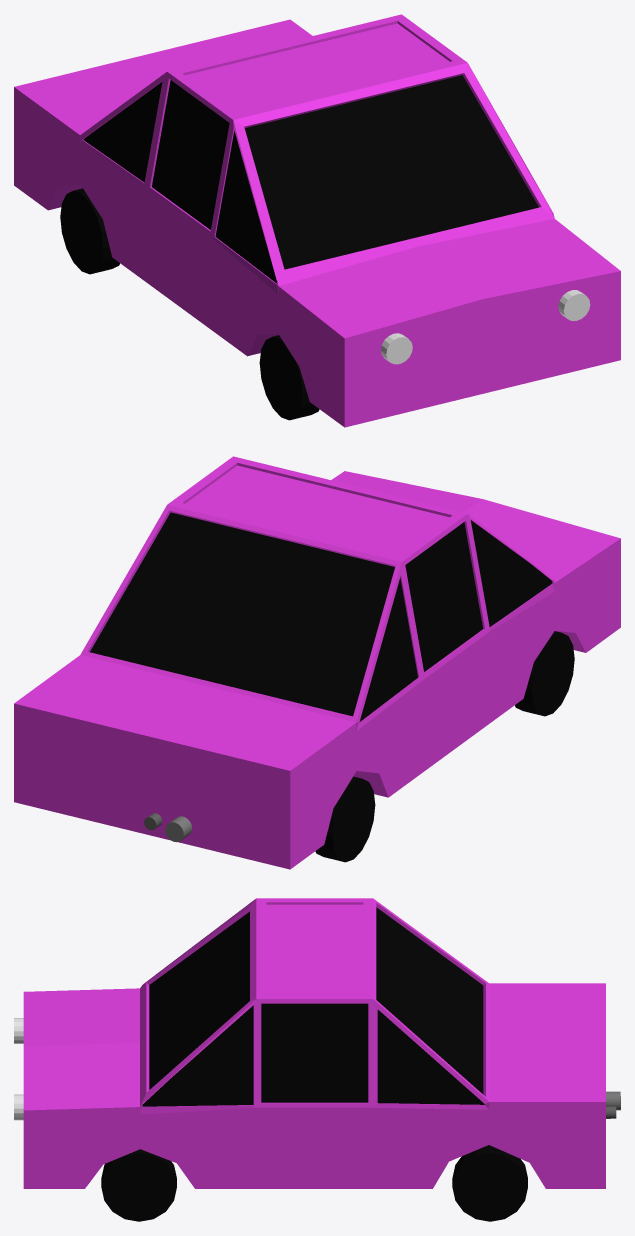
The model's file is CarPurpleStage1.fbx.
3 views of the same model, one above another, from view 1: azimuth 30°, elevation 25°; view 2: azimuth 150°, elevation 25°; view 3: azimuth 270°, elevation 25° (orthographic). The views are drawn at different scales.
Visible parts, largest first — view 1: Car, wheels, Headlights; view 2: Car, wheels; view 3: Car, wheels, Headlights.
Boxes of the visible parts, x1,y1,x2,y2 form: Car: (14,14,620,427); wheels: (60,188,319,420); Headlights: (381,290,590,364); Car: (14,456,620,869); wheels: (315,631,574,862); Car: (23,898,605,1188); wheels: (101,1145,527,1221); Headlights: (14,1018,23,1120).
Size of the model in its own units: 493 by 415 by 1063.
